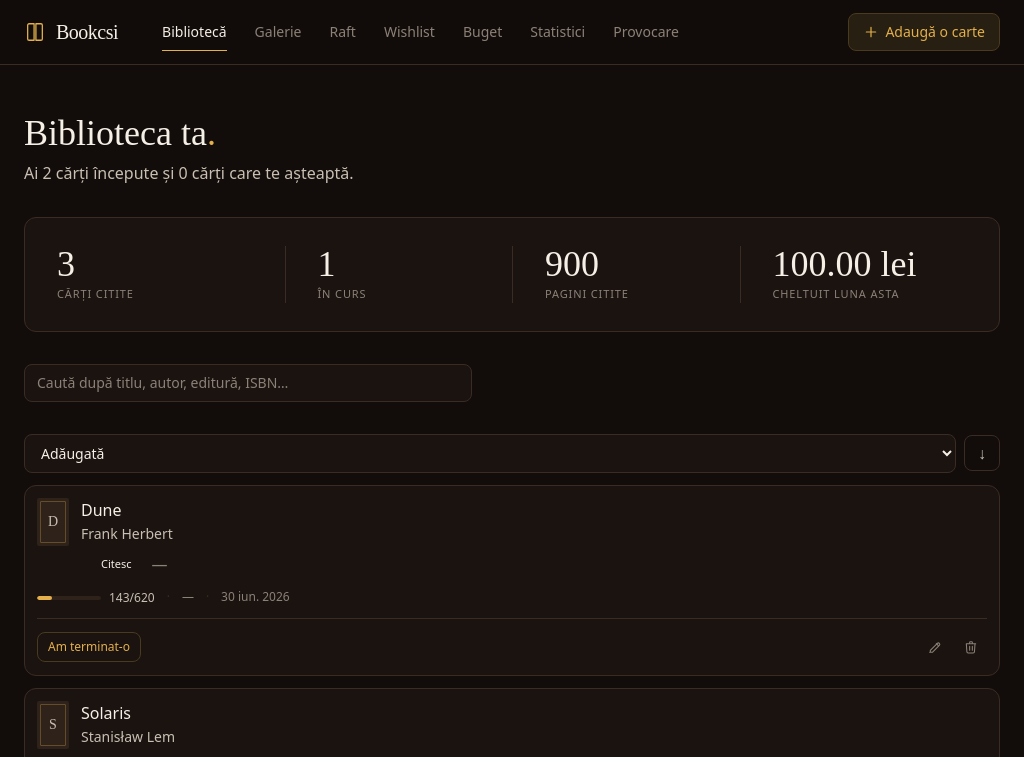
Test: LibraryPage — search (§D42) › asks the API for the search rather than filtering what it holds
Expected: the button "Dune" is shown, [81,498,122,522]
Type "lem" into the search field named "Caută în bibliotecă" at (248, 382), box [24,364,472,402]
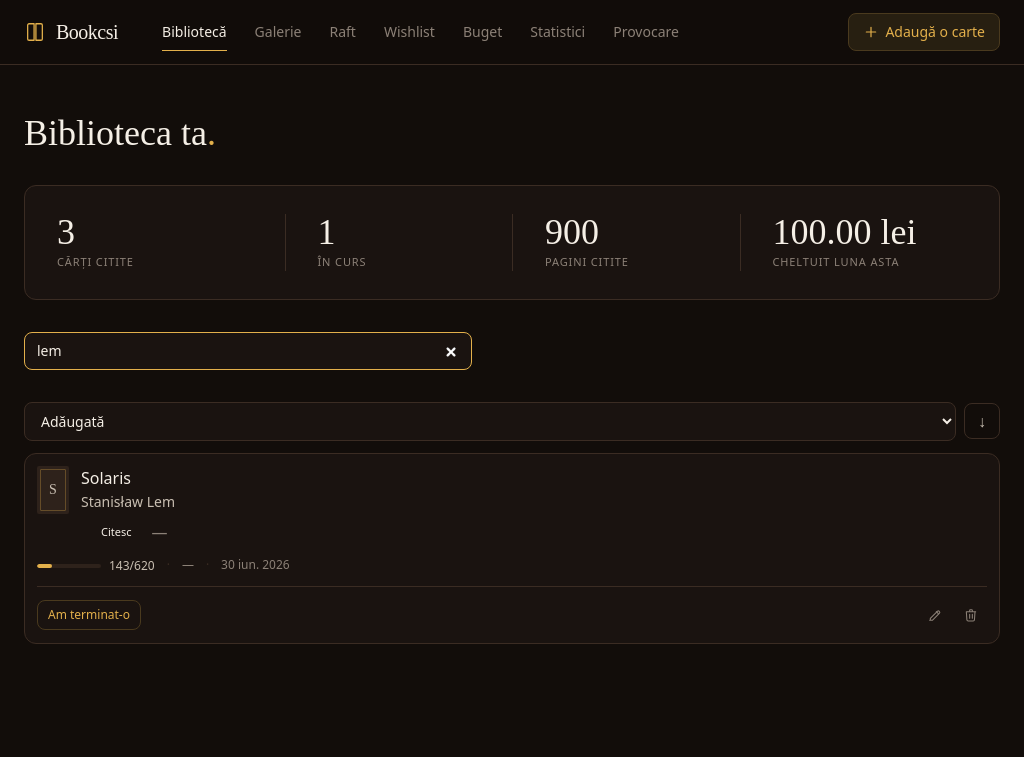
Expected: the button "Solaris" is shown, [81,466,131,490]
Expected: the button "Dune" is gone
